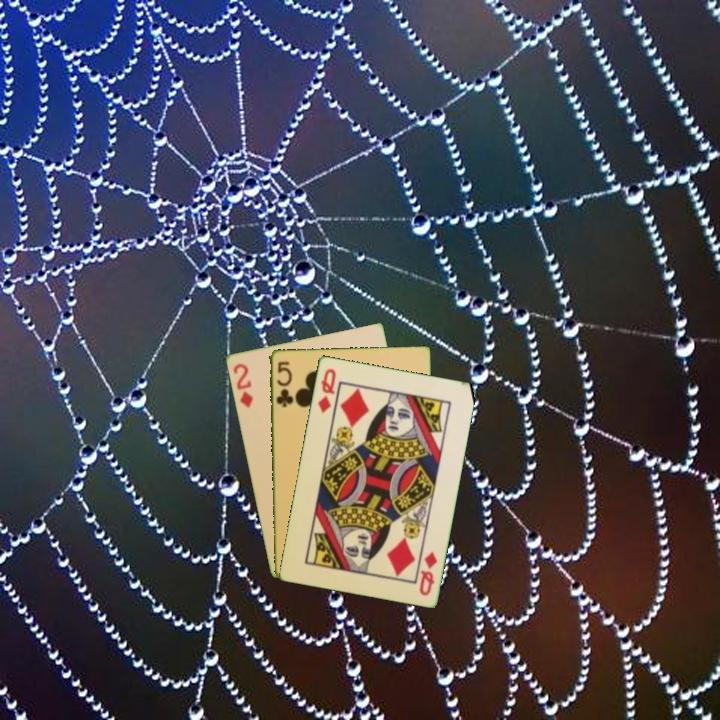2d: (229, 360, 256, 411)
5c: (272, 358, 296, 410)
Qd: (314, 364, 339, 415), (415, 548, 440, 598)
